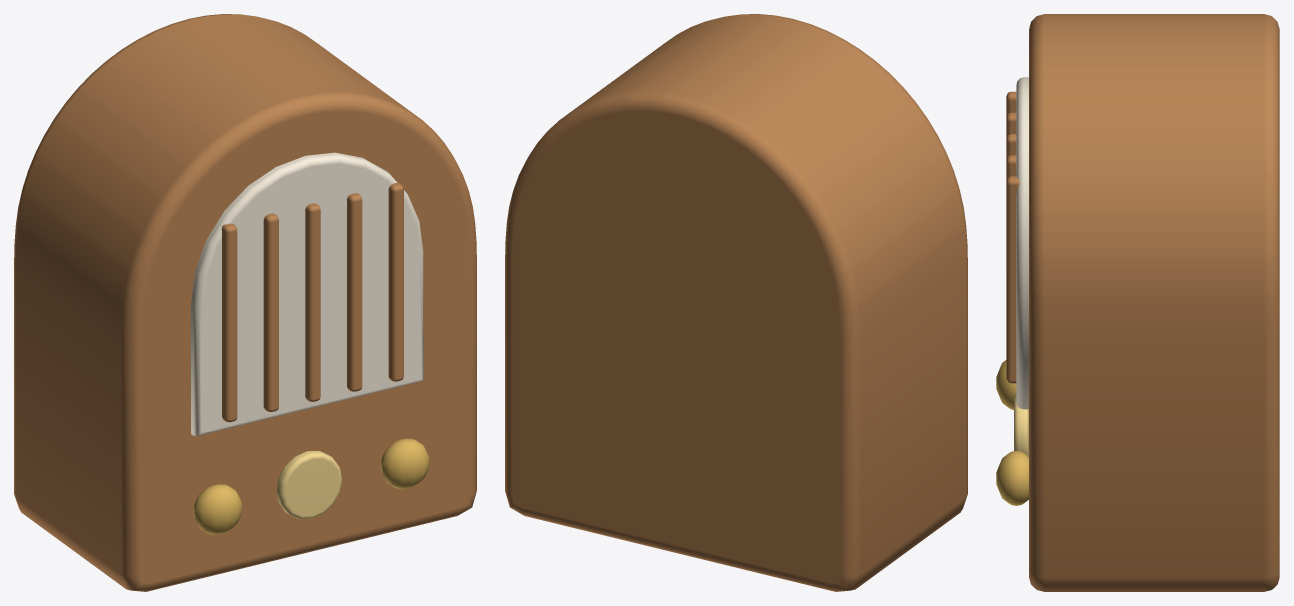
The model's file is arched_table_radio.glb.
The picture shows the model from 3 angles, left to right: view 1: azimuth 30°, elevation 25°; view 2: azimuth 150°, elevation 25°; view 3: azimuth 270°, elevation 25°; orthographic projection. The views are drawn at different scales.
Parts seen in each view (by area): view 1: arched_table_radio_mesh; view 2: arched_table_radio_mesh; view 3: arched_table_radio_mesh.
Boxes of the visible parts, bbox=[...] form: arched_table_radio_mesh: bbox=[14, 14, 476, 591]; arched_table_radio_mesh: bbox=[505, 14, 967, 591]; arched_table_radio_mesh: bbox=[996, 14, 1279, 591].
Bounding box in the file's own units: 0.34 × 0.4193 × 0.2261.
